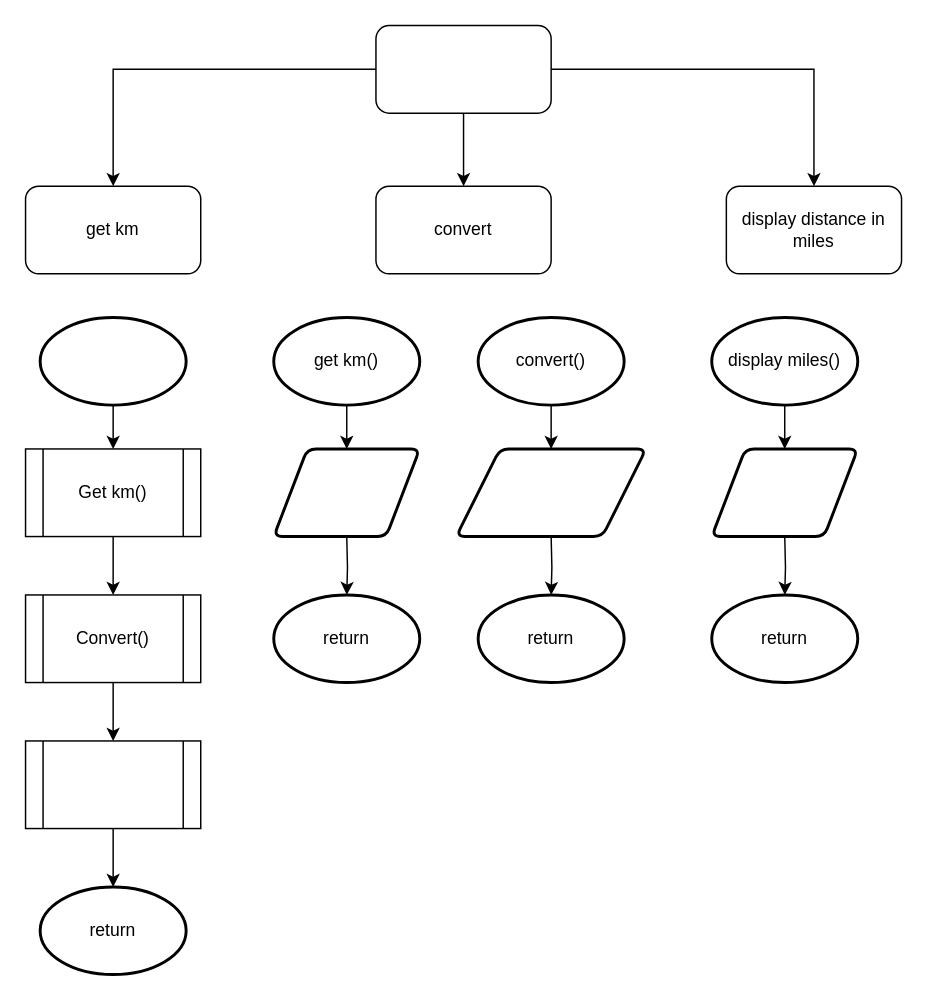
Some shapes in this 927 by 1002 pixel diagram are drawn without their labels. The box of each missing label's shape, as (x1, y1, x2, y2) in pixels:
ask km: (272, 447, 420, 537)
convert to miles: (454, 447, 647, 537)
display distance in miles(): (24, 739, 201, 829)
Km converter: (374, 24, 551, 113)
Main(): (38, 315, 187, 406)
print miles: (710, 447, 858, 537)
